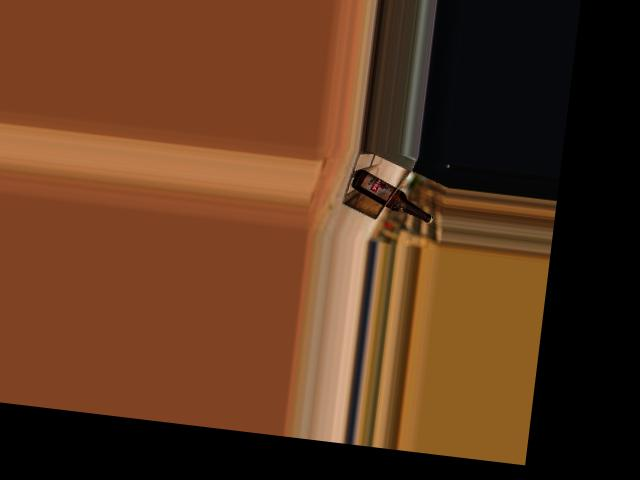beer: (348, 167, 438, 224)
